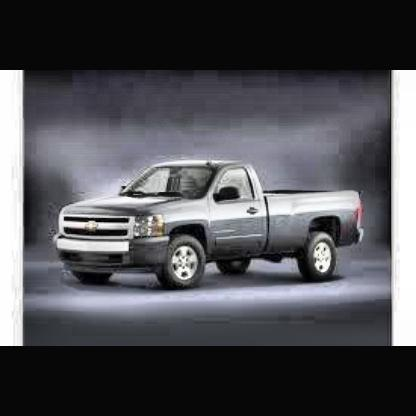Chevrolet Silverado 2500HD Regular Cab 2012: (54, 157, 367, 293)
